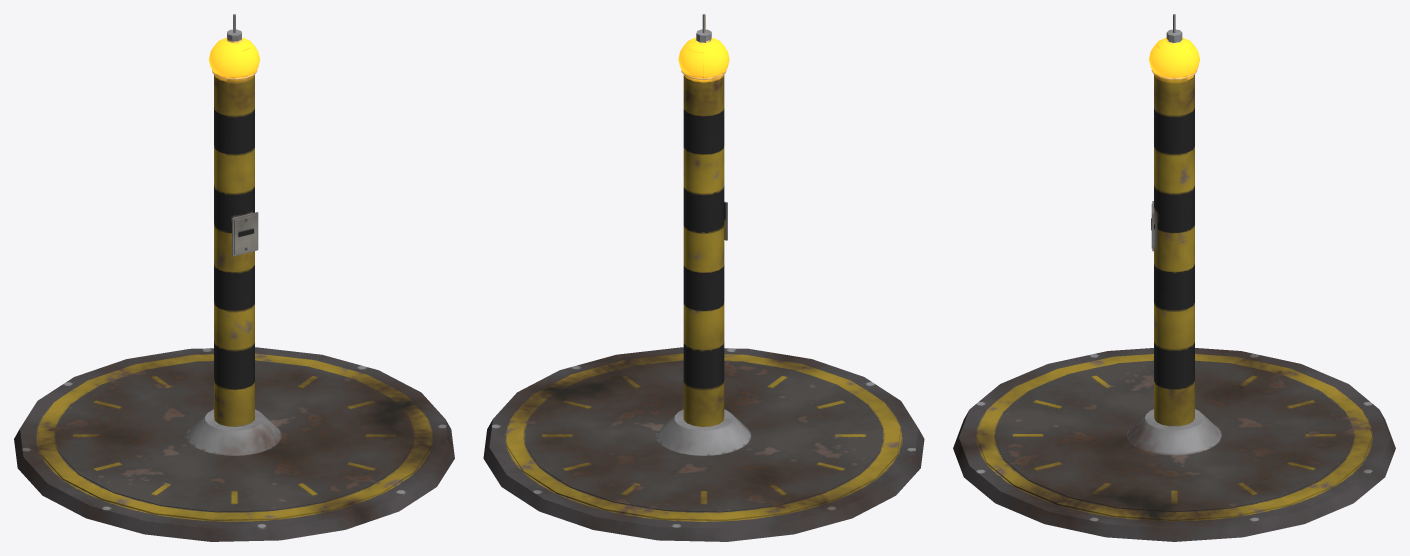
Rendered from Checkpoint_low.fbx.
The picture shows the model from 3 angles, left to right: view 1: azimuth 30°, elevation 25°; view 2: azimuth 150°, elevation 25°; view 3: azimuth 270°, elevation 25°; orthographic projection.
Parts seen in each view (by area): view 1: Checkpoint_low; view 2: Checkpoint_low; view 3: Checkpoint_low.
Boxes of the visible parts, x1,y1,x2,y2 form: Checkpoint_low: (14,14,454,541); Checkpoint_low: (483,14,924,541); Checkpoint_low: (953,14,1395,541).
Bounding box in the file's own units: 1.12 × 1.21 × 1.12.
1 material, 1 textured.
